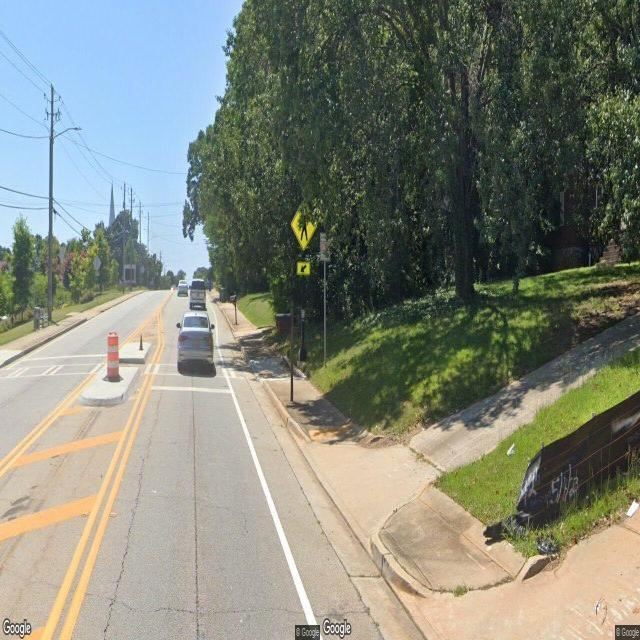seating: (39, 309, 49, 329)
trash_can: (34, 306, 40, 330)
